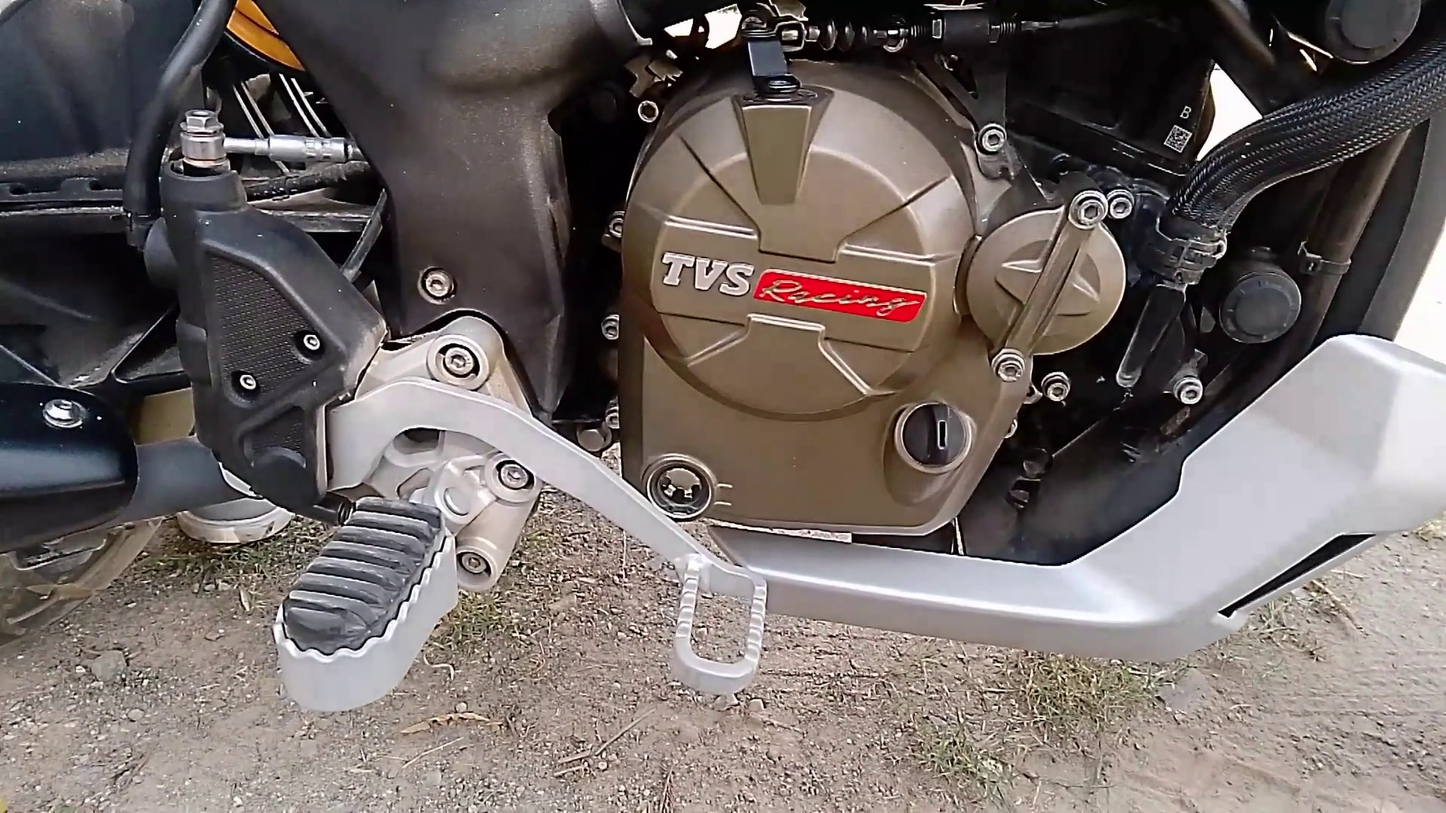bike-engine: (620, 57, 1141, 538)
bike-engine-level: (643, 463, 721, 522)
bike-oil-cap: (874, 400, 974, 500)
